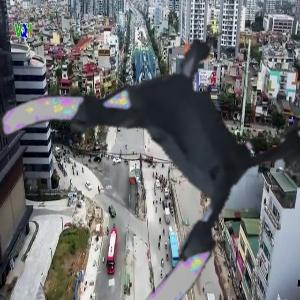drone: (12, 6, 295, 289)
